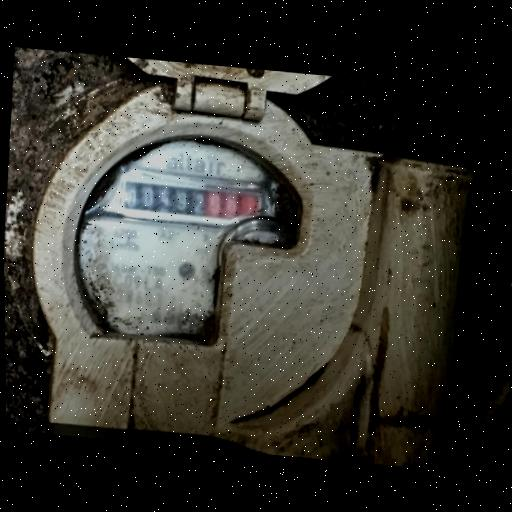0: (206, 191, 224, 219), (124, 182, 140, 210), (140, 183, 156, 211)
2: (191, 188, 207, 216)
4: (157, 185, 173, 213)
6: (224, 192, 240, 220)
7: (240, 193, 258, 216)
9: (173, 187, 191, 216)
border_water_meter_number: (99, 167, 278, 237)
